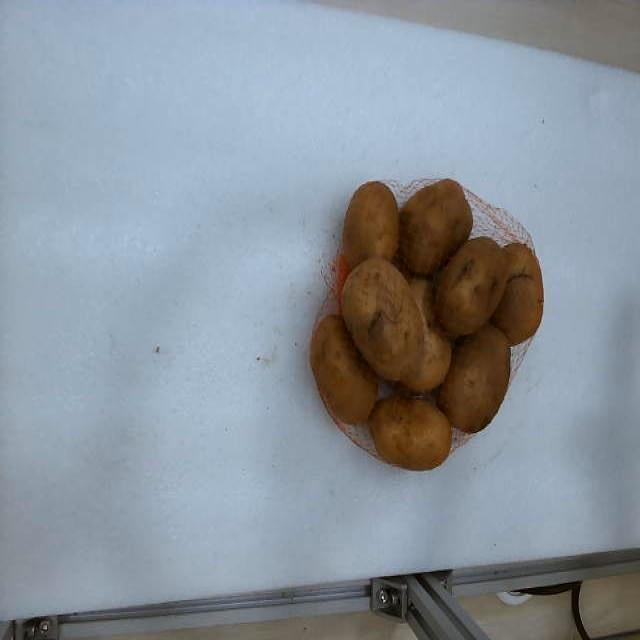potato: (342, 257, 424, 382), (438, 323, 510, 432), (310, 315, 378, 424), (435, 237, 508, 338), (399, 180, 472, 276), (369, 397, 451, 470), (342, 182, 399, 268), (491, 275, 544, 345), (404, 328, 451, 392), (504, 242, 541, 282), (409, 277, 435, 326)
